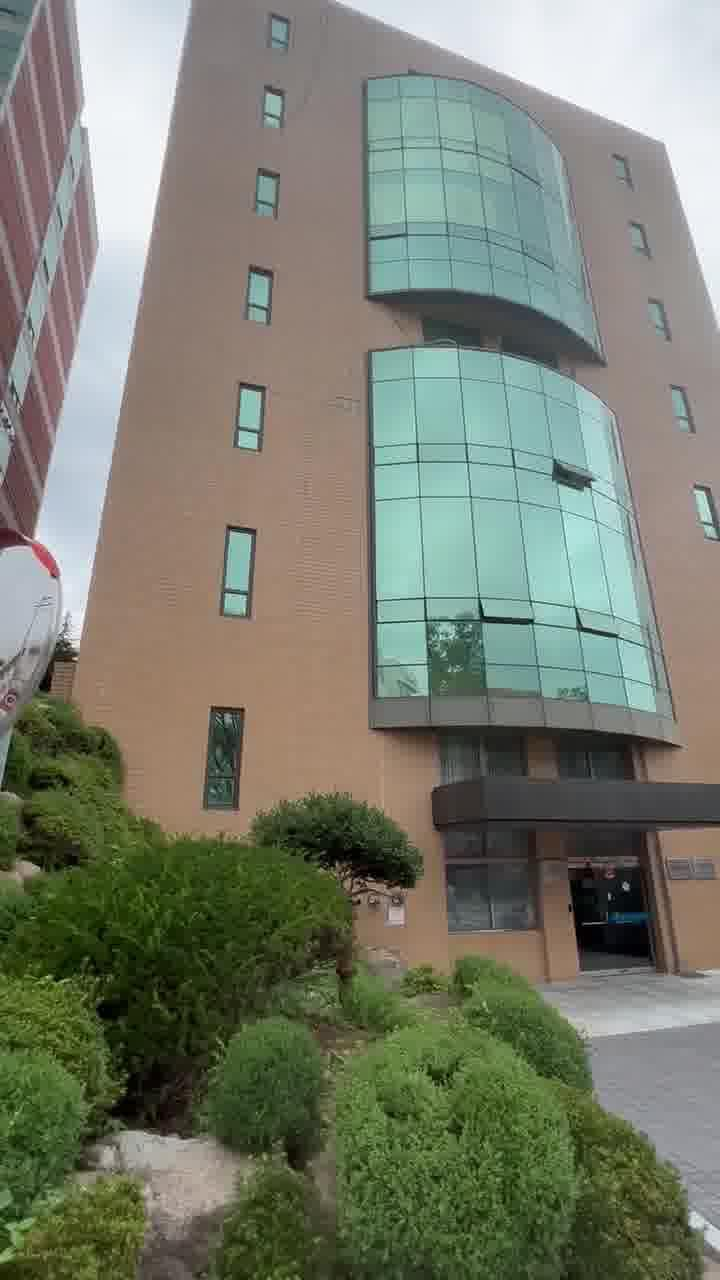building: (114, 40, 720, 808)
